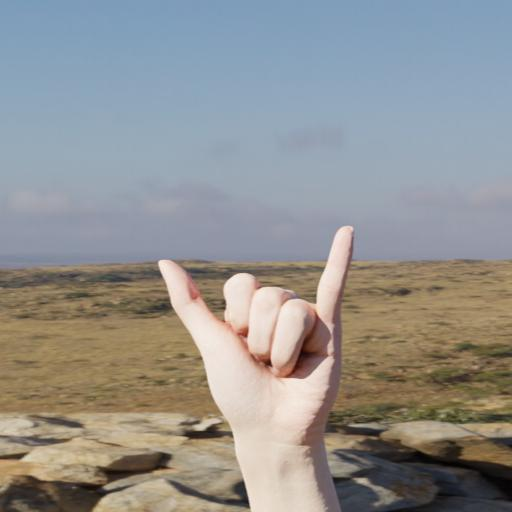Y: (132, 209, 364, 467)
